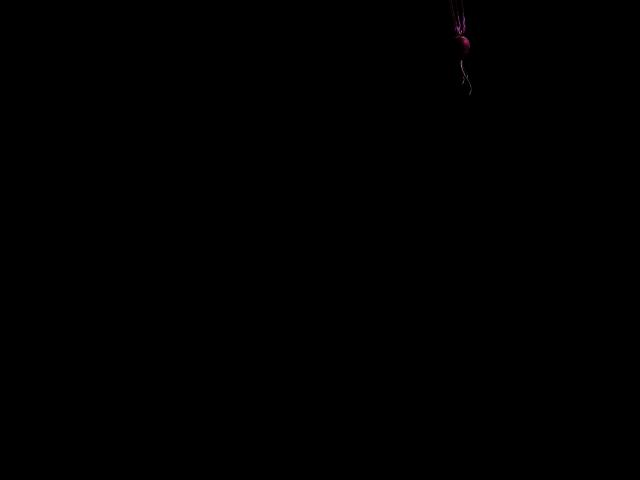beet: (442, 9, 479, 97)
